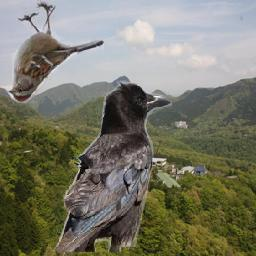Crow: (54, 80, 173, 252)
Sparrow: (6, 0, 105, 105)
